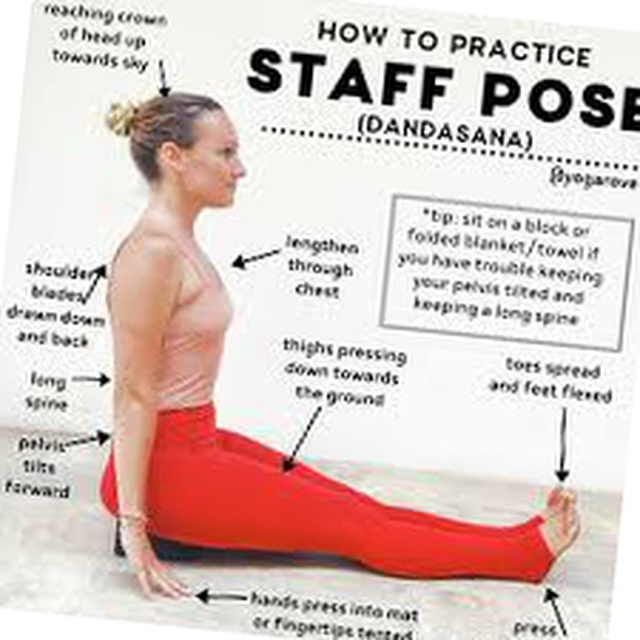Staff_Pose: (100, 91, 582, 602)
